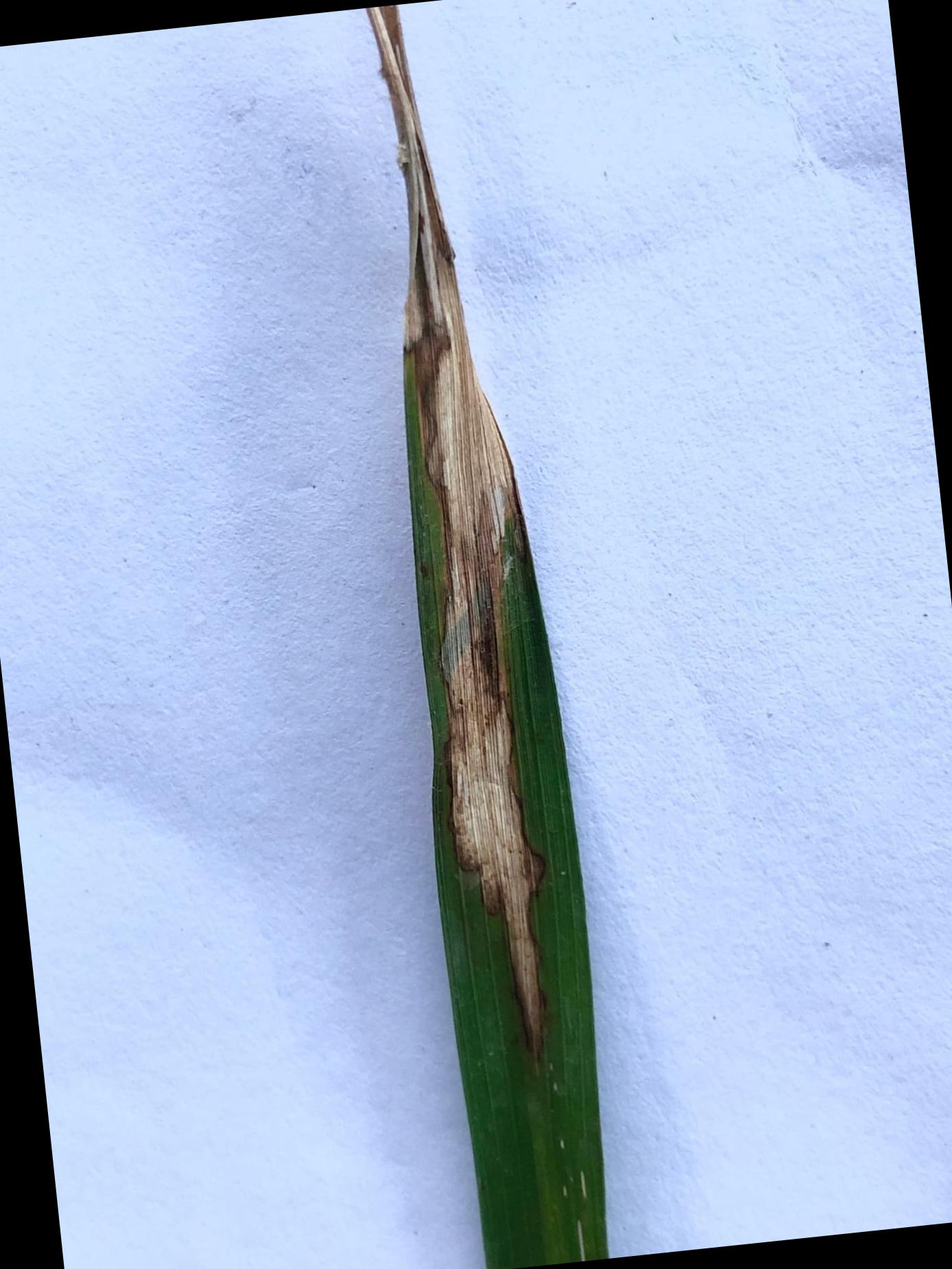Leaf Blight: (365, 5, 547, 1069)
